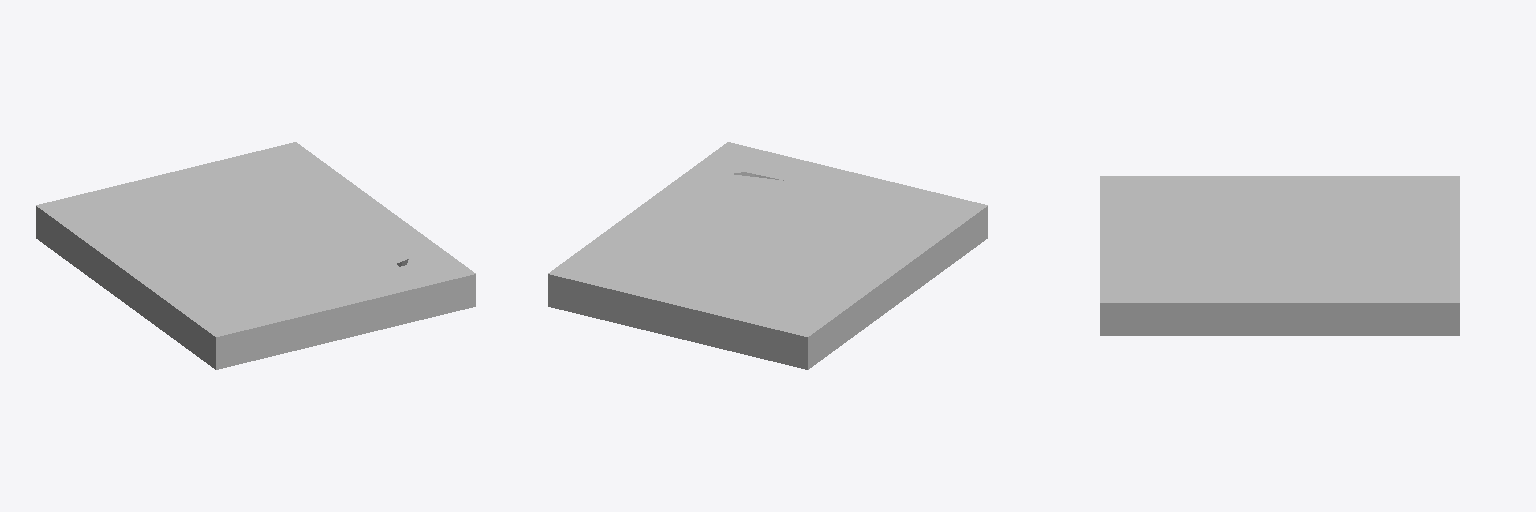
Rendered from PortalDoor_Wall.obj.
3 renders of one model, left to right at view 1: azimuth 30°, elevation 25°; view 2: azimuth 150°, elevation 25°; view 3: azimuth 270°, elevation 25°, orthographic.
Visible parts, largest first — view 1: Cube; view 2: Cube; view 3: Cube.
Part boxes in pixels (x1,y1,x2,y2): Cube: (36,142,475,369); Cube: (548,142,987,369); Cube: (1100,176,1459,335).
Bounding box in the file's own units: 2.5 × 0.3 × 3.